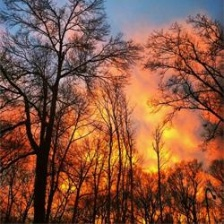fire: (7, 63, 224, 222)
